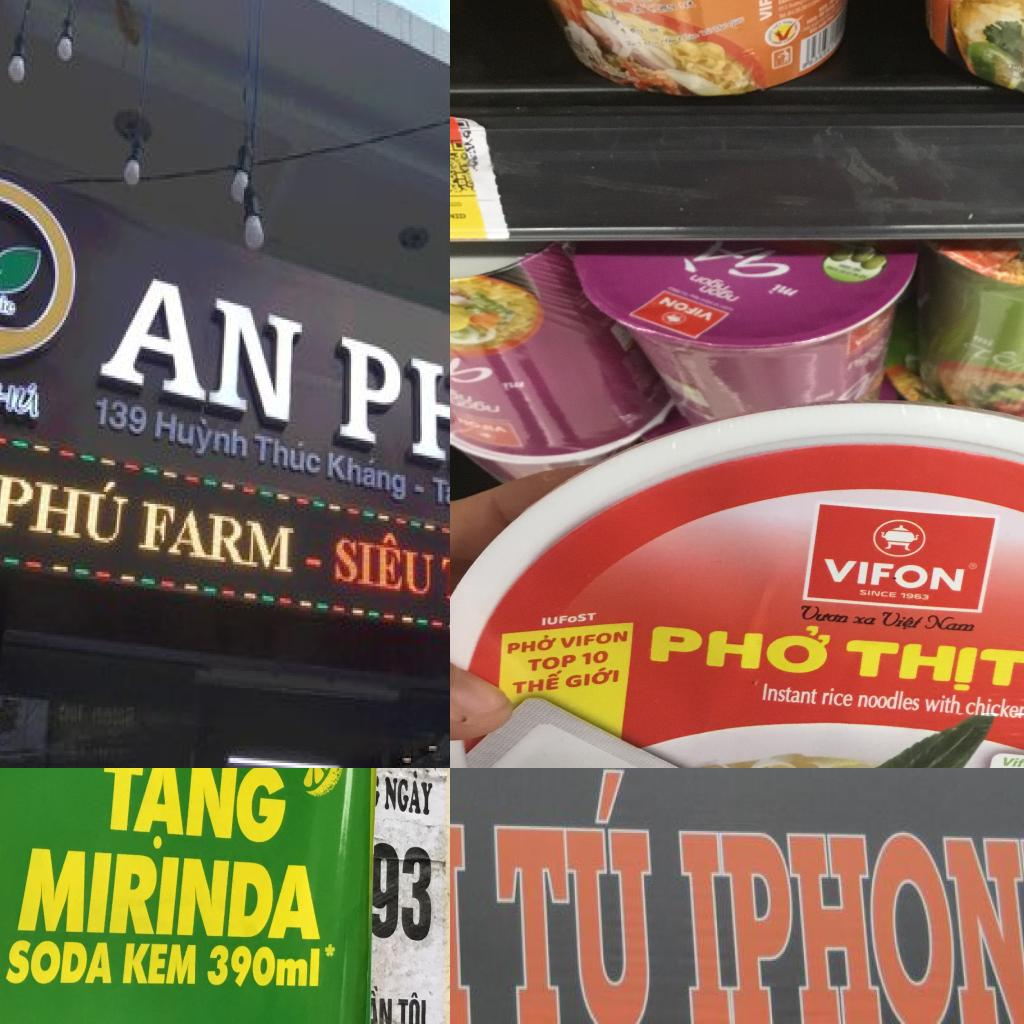text: (677, 826, 1024, 1024), (491, 768, 658, 1024), (97, 266, 309, 438), (12, 840, 325, 944), (329, 303, 450, 496), (95, 768, 292, 854), (0, 450, 131, 559), (134, 494, 298, 579), (330, 518, 436, 601), (364, 834, 435, 942), (790, 462, 852, 574), (208, 942, 338, 992), (153, 402, 251, 468), (3, 938, 114, 988), (326, 444, 411, 506), (891, 72, 945, 150), (120, 940, 199, 990), (253, 432, 324, 478), (380, 768, 436, 822), (924, 287, 970, 352), (90, 393, 150, 441), (0, 363, 42, 424), (944, 700, 986, 741), (864, 536, 898, 580), (364, 982, 394, 1024), (952, 176, 992, 203), (0, 274, 20, 325), (846, 515, 873, 551), (833, 519, 857, 558), (862, 2, 882, 48), (844, 470, 872, 502), (429, 470, 450, 511), (999, 696, 1020, 737), (910, 255, 926, 302), (801, 216, 822, 246), (885, 100, 911, 124), (530, 24, 558, 46), (455, 597, 478, 619), (883, 243, 894, 287), (450, 567, 473, 586), (515, 43, 539, 61), (546, 5, 566, 26), (915, 325, 934, 346), (558, 286, 574, 307), (458, 584, 481, 598), (457, 615, 473, 635), (1009, 114, 1024, 135), (566, 250, 581, 270), (975, 678, 990, 698), (553, 304, 567, 320), (460, 476, 475, 490), (752, 724, 762, 745), (474, 589, 489, 602), (553, 0, 580, 7), (566, 272, 576, 288), (455, 470, 467, 477), (450, 463, 462, 470)
